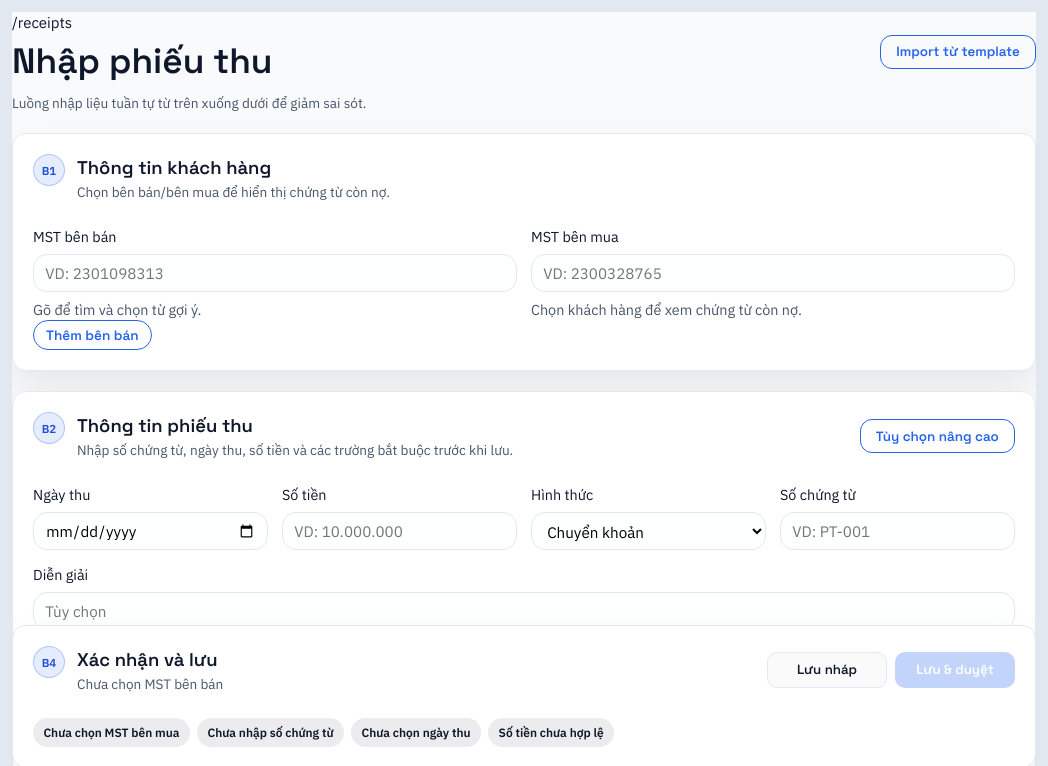
Test case: receipts modules › navigates to centralized import page with RECEIPT type
Click the button "Import từ template": [958, 52] box [880,34,1036,68]
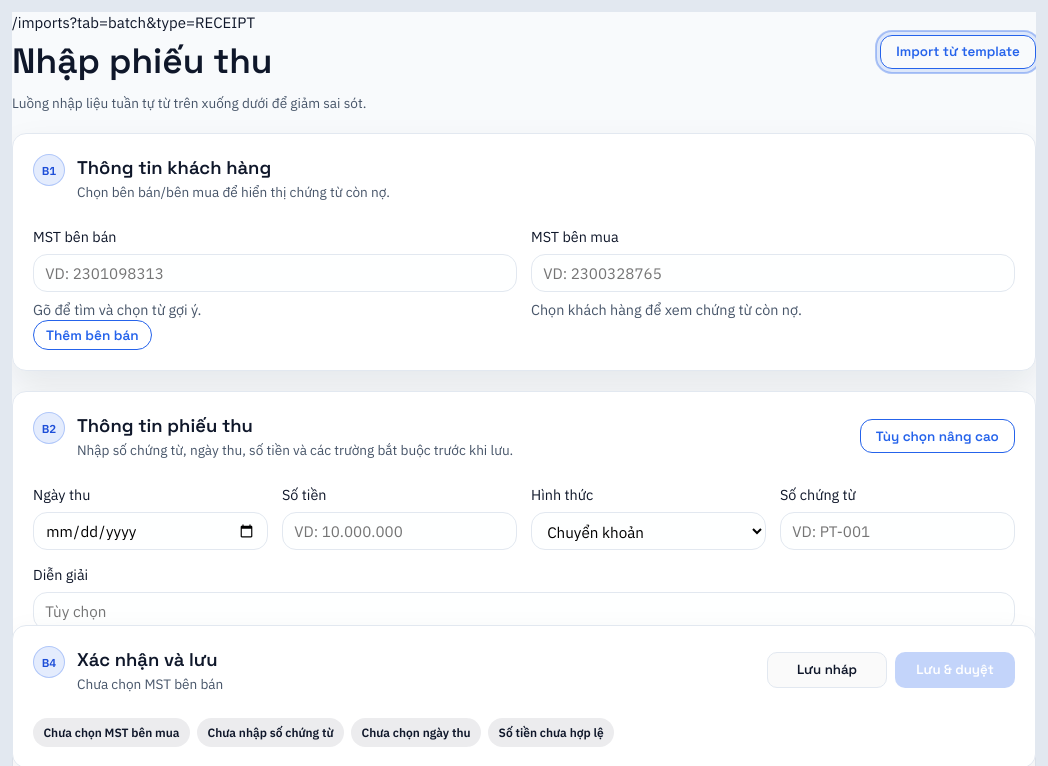
Result: the text with test id "location-probe" reads "/imports?tab=batch&type=RECEIPT" at [12,13,255,32]
